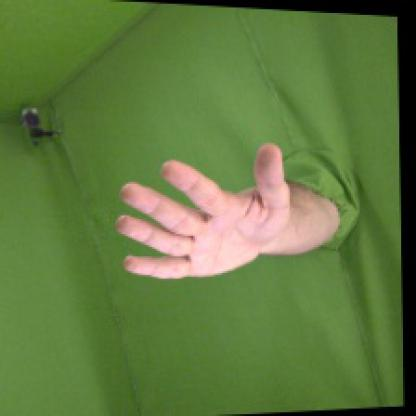Hand: (114, 140, 292, 280)
